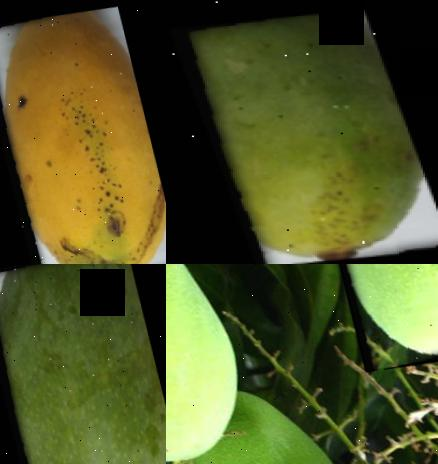Ripe: (0, 0, 166, 264)
Unripe: (166, 0, 438, 264), (0, 264, 166, 464), (331, 264, 438, 376)
